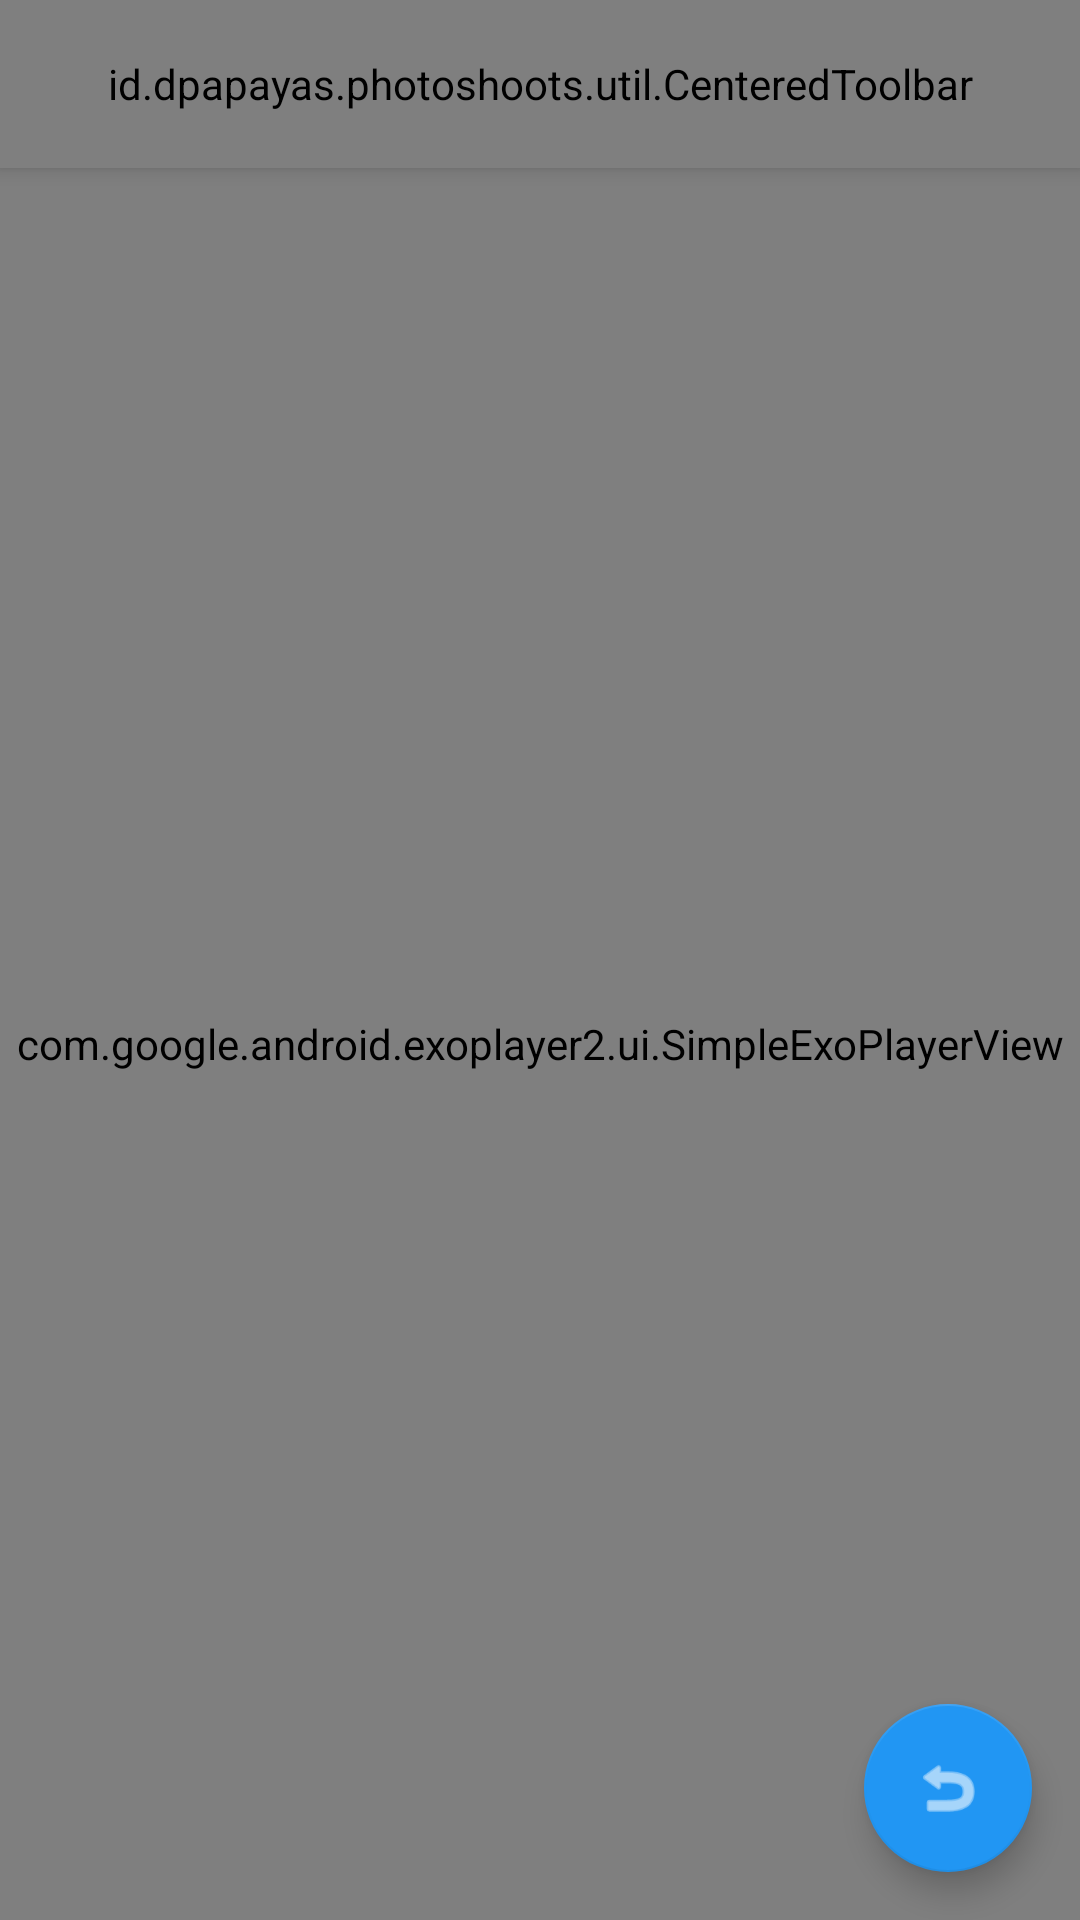

Icons on this 1080 × 1920 Android screen, each with its box as (x1, y1, x2, y2):
revert: (864, 1704, 1032, 1872)
